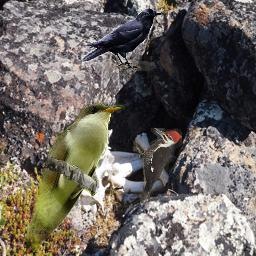Crow: (82, 8, 162, 71)
Cuckoo: (23, 102, 125, 251)
Woodpecker: (133, 128, 182, 208)
